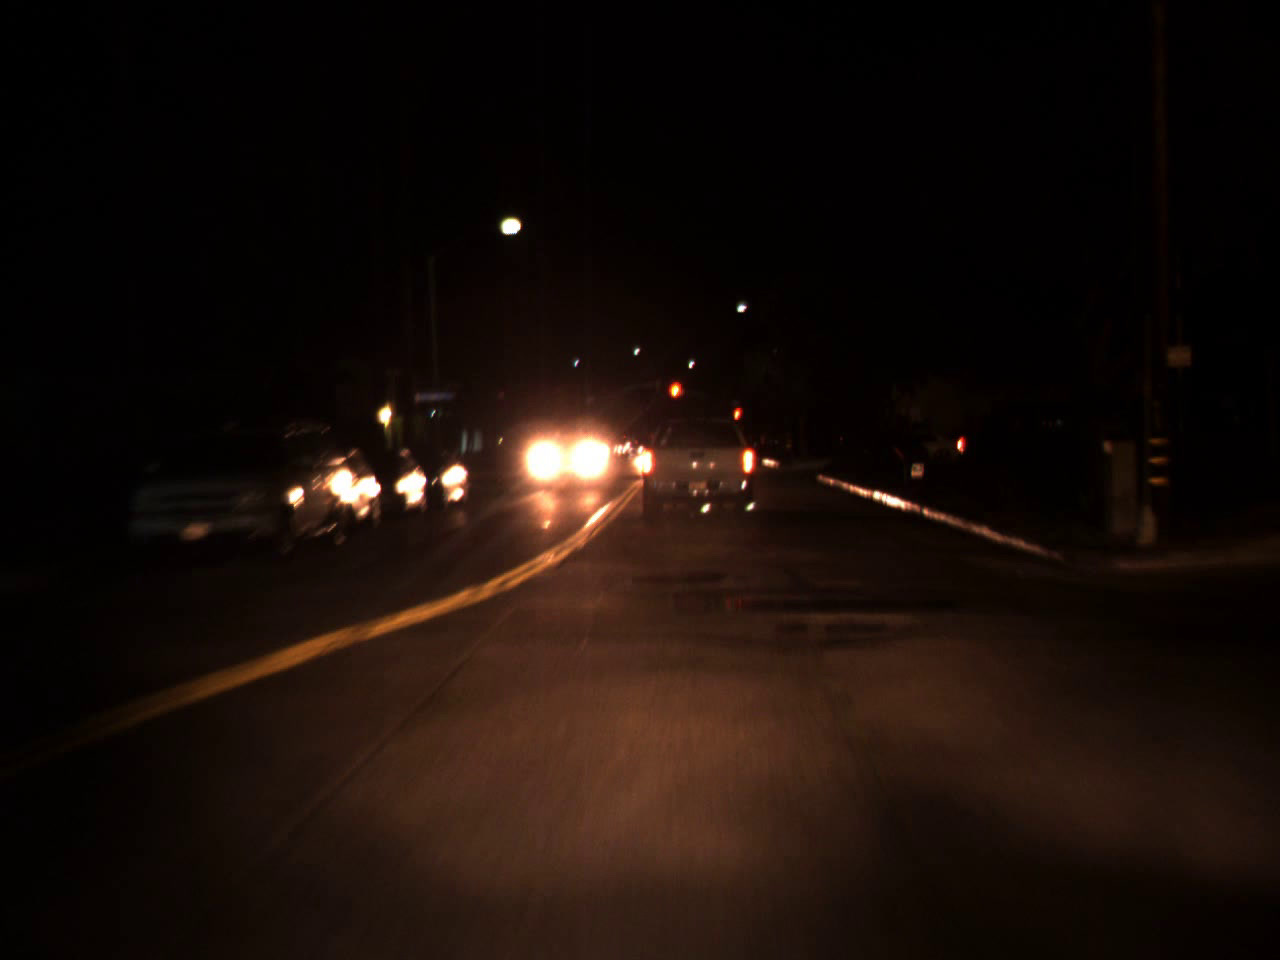stop: (667, 378, 683, 418), (732, 405, 744, 437)
